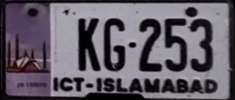2: (137, 17, 163, 74)
3: (189, 17, 216, 76)
5: (162, 16, 189, 75)
G: (101, 16, 127, 75)
K: (74, 16, 102, 73)
